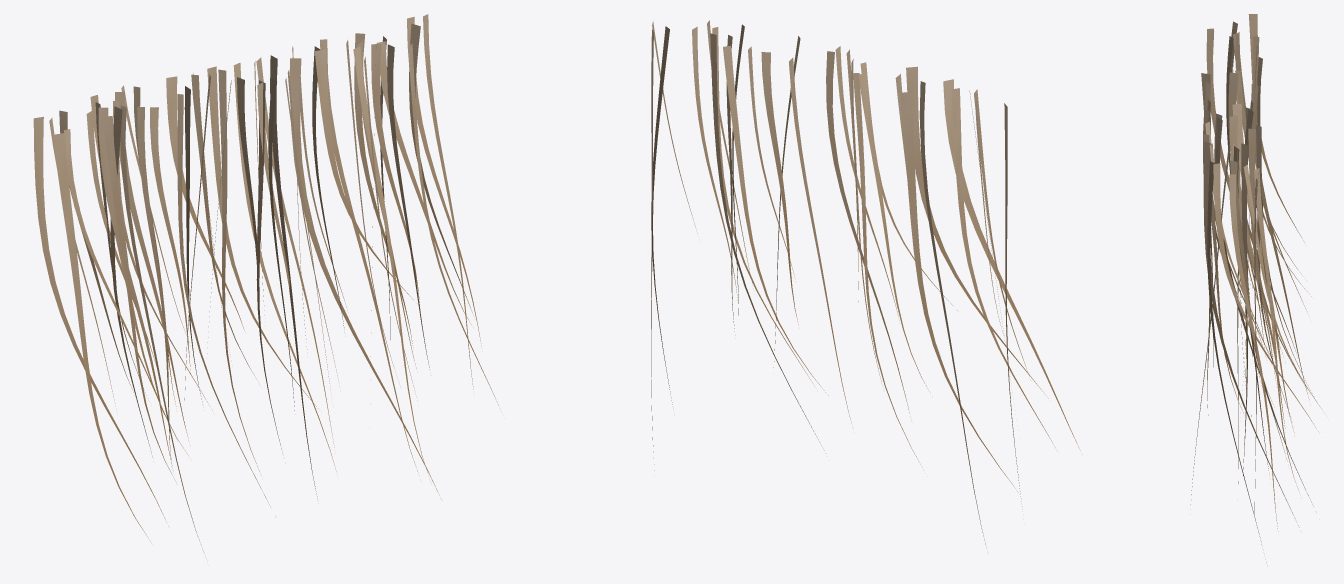
Rendered from mesh-plant-041-silverfall-veil_LOD0.glb.
3 views of the same model, side by side, from view 1: azimuth 30°, elevation 25°; view 2: azimuth 150°, elevation 25°; view 3: azimuth 270°, elevation 25° (orthographic). The views are drawn at different scales.
Parts seen in each view (by area): view 1: geometry_0; view 2: geometry_0; view 3: geometry_0.
Part boxes in pixels (x1,y1,x2,y2): geometry_0: [33, 14, 498, 551]; geometry_0: [651, 20, 1080, 544]; geometry_0: [1190, 14, 1321, 544].
Size of the model in its own units: 2.78 by 2.35 by 1.28.
